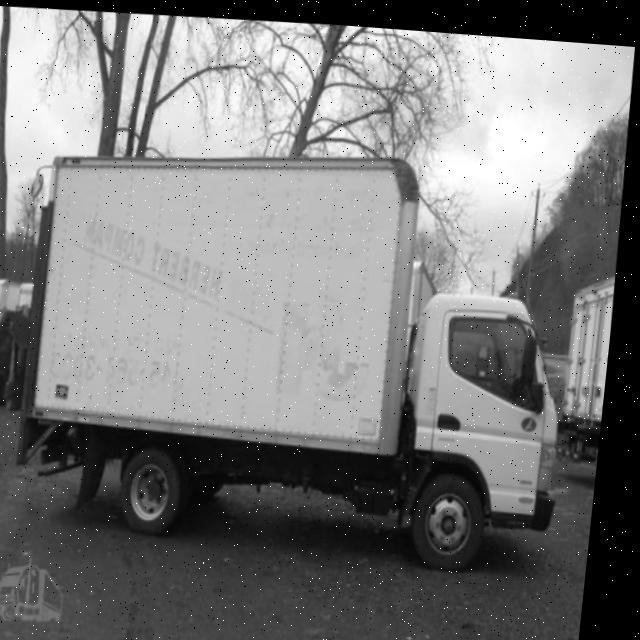truck: (373, 247, 600, 565)
